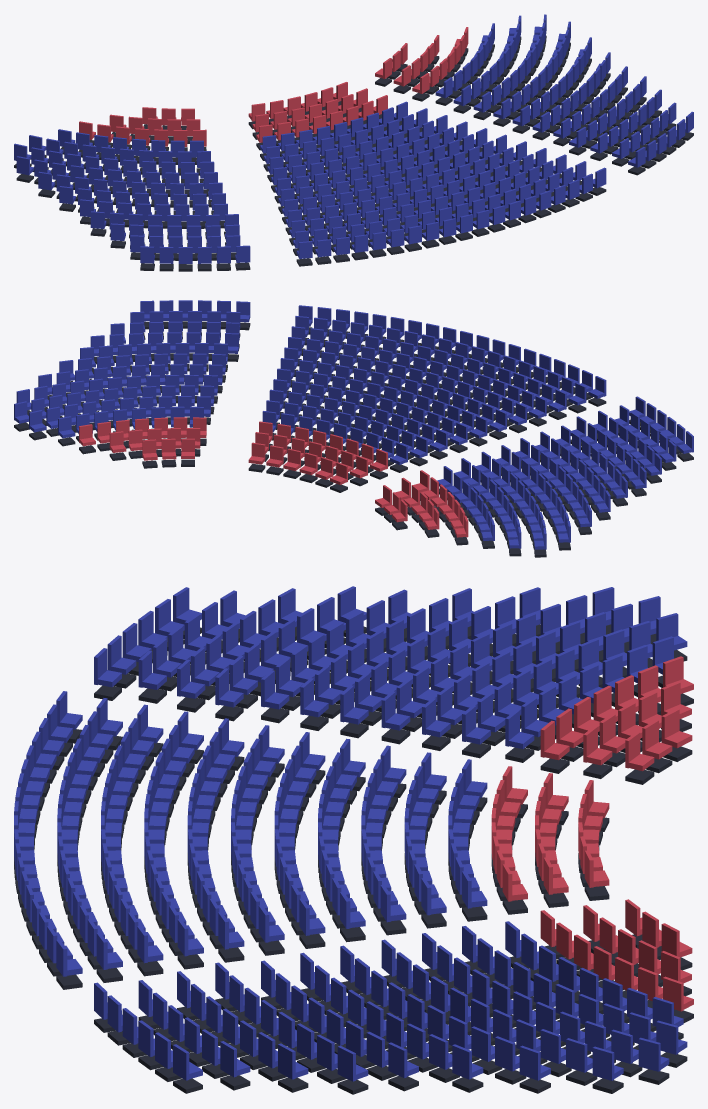
The model's file is Auditorium_Seating.glb.
The picture shows the model from 3 angles, top to bottom: view 1: azimuth 30°, elevation 25°; view 2: azimuth 150°, elevation 25°; view 3: azimuth 270°, elevation 25°; orthographic projection. The views are drawn at different scales.
Visible parts, largest first — view 1: Auditorium_Seating_geometry; view 2: Auditorium_Seating_geometry; view 3: Auditorium_Seating_geometry.
Boxes of the visible parts, x1=… form: Auditorium_Seating_geometry: x1=14, y1=14, x2=693, y2=271; Auditorium_Seating_geometry: x1=14, y1=300, x2=693, y2=557; Auditorium_Seating_geometry: x1=14, y1=586, x2=693, y2=1094.
Bounding box in the file's own units: 25.66 × 1.04 × 15.75.
